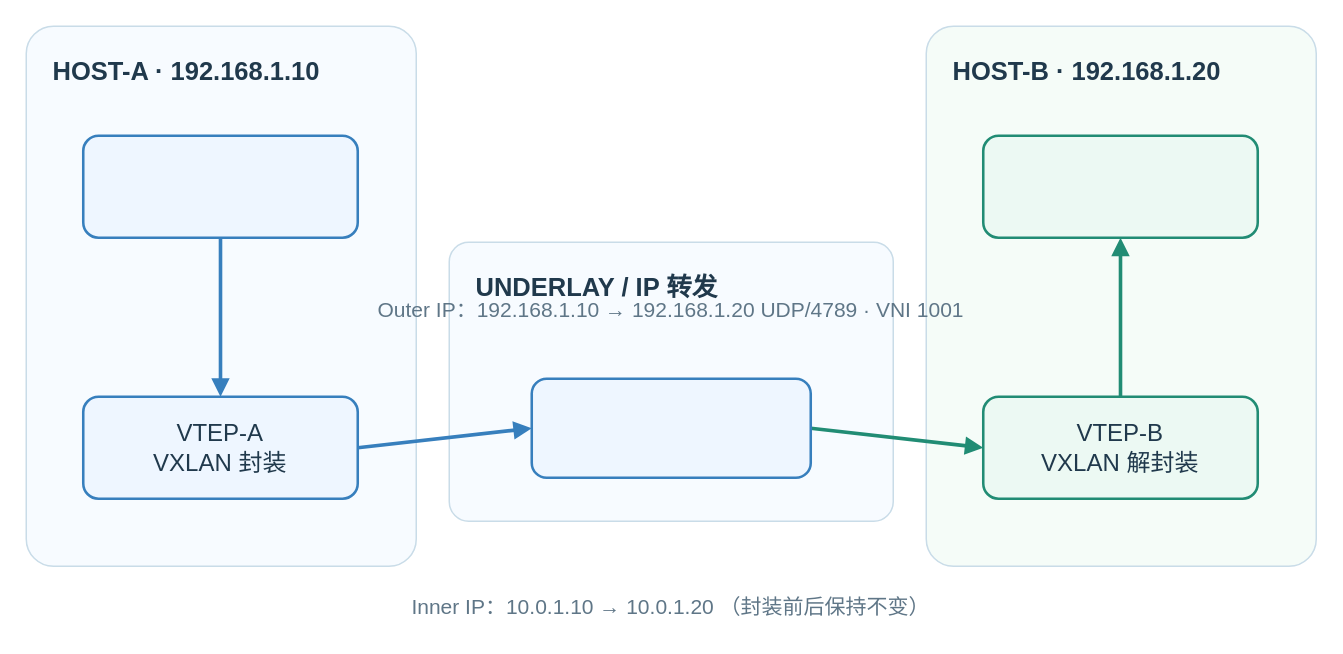
Some shapes in this 1343 by 654 pixel diagram are drawn without their labels. Here are the shapes that lost their labels. From the top down, the centre of each, then its label:
pixel 219 186: VM-A 10.0.1.10
pixel 1119 186: VM-B 10.0.1.20
pixel 670 427: ToR / Spine 外层 IP
